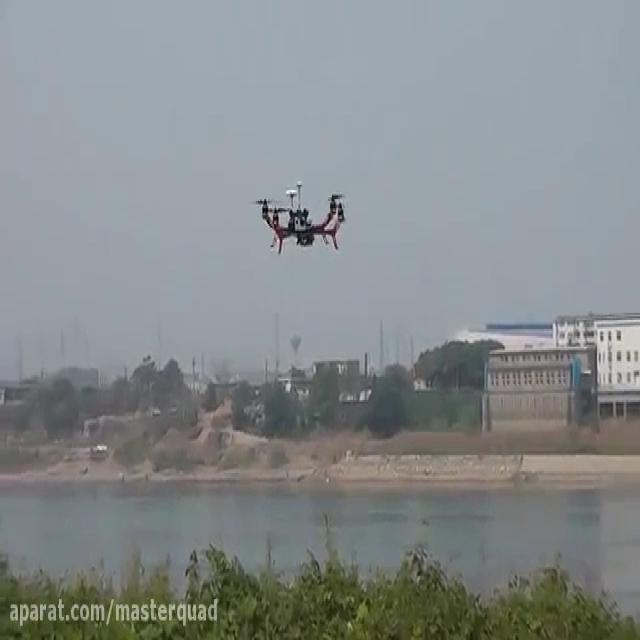drone: (246, 175, 349, 262)
